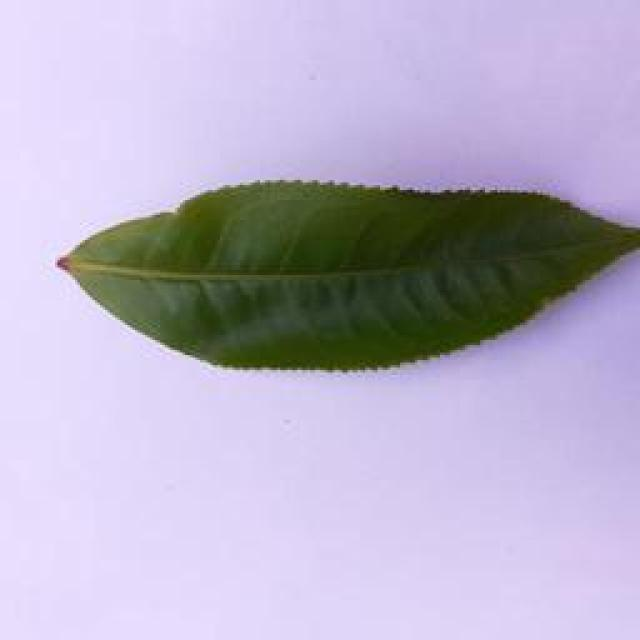Healthy: (50, 156, 640, 386)
